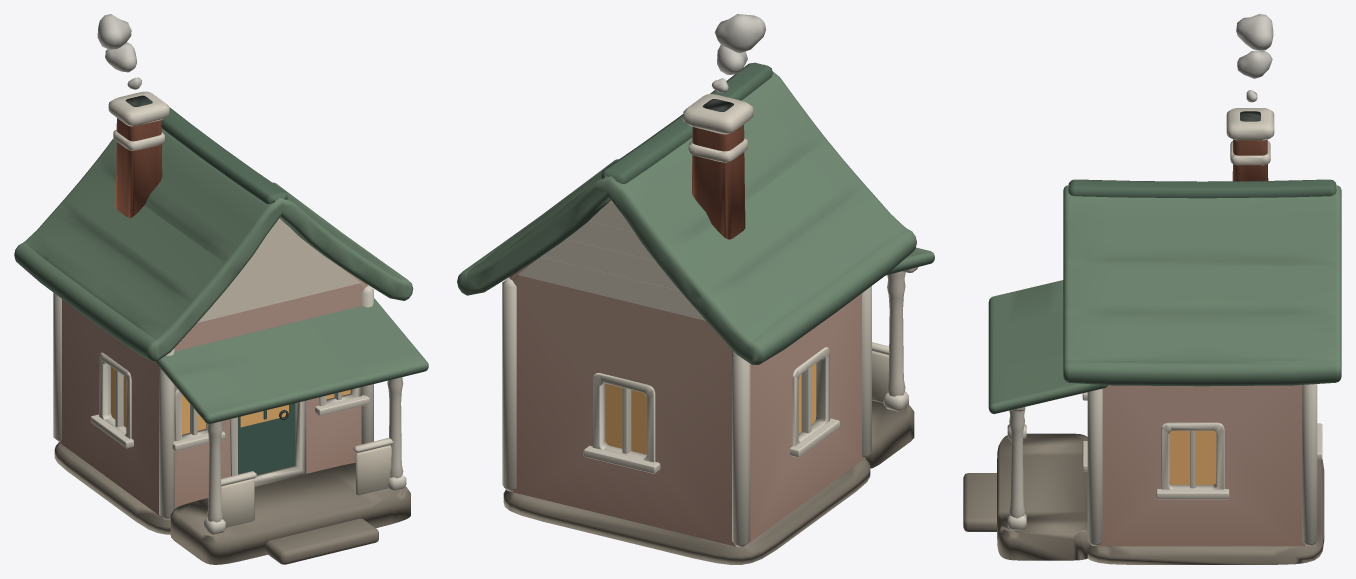
File: BLD_Family_House_A_T1.fbx
3 renders of one model, left to right at view 1: azimuth 30°, elevation 25°; view 2: azimuth 150°, elevation 25°; view 3: azimuth 270°, elevation 25°, orthographic. The views are drawn at different scales.
Parts seen in each view (by area): view 1: BLD_Family_House_A_T1_Body_LOD0, BLD_Family_House_A_T1_Puff3_LOD0, BLD_Family_House_A_T1_Puff2_LOD0; view 2: BLD_Family_House_A_T1_Body_LOD0, BLD_Family_House_A_T1_Puff3_LOD0, BLD_Family_House_A_T1_Puff2_LOD0; view 3: BLD_Family_House_A_T1_Body_LOD0, BLD_Family_House_A_T1_Puff3_LOD0, BLD_Family_House_A_T1_Puff2_LOD0.
Part boxes in pixels (x1,y1,x2,y2): BLD_Family_House_A_T1_Body_LOD0: (14, 91, 428, 564); BLD_Family_House_A_T1_Puff3_LOD0: (97, 14, 131, 49); BLD_Family_House_A_T1_Puff2_LOD0: (105, 42, 136, 72); BLD_Family_House_A_T1_Body_LOD0: (457, 62, 934, 564); BLD_Family_House_A_T1_Puff3_LOD0: (714, 14, 765, 52); BLD_Family_House_A_T1_Puff2_LOD0: (717, 45, 747, 74); BLD_Family_House_A_T1_Body_LOD0: (963, 108, 1341, 564); BLD_Family_House_A_T1_Puff3_LOD0: (1236, 14, 1273, 50); BLD_Family_House_A_T1_Puff2_LOD0: (1237, 50, 1272, 78).
Size of what is drawn, in the model's own units: 3.26 by 5.25 by 3.94.
